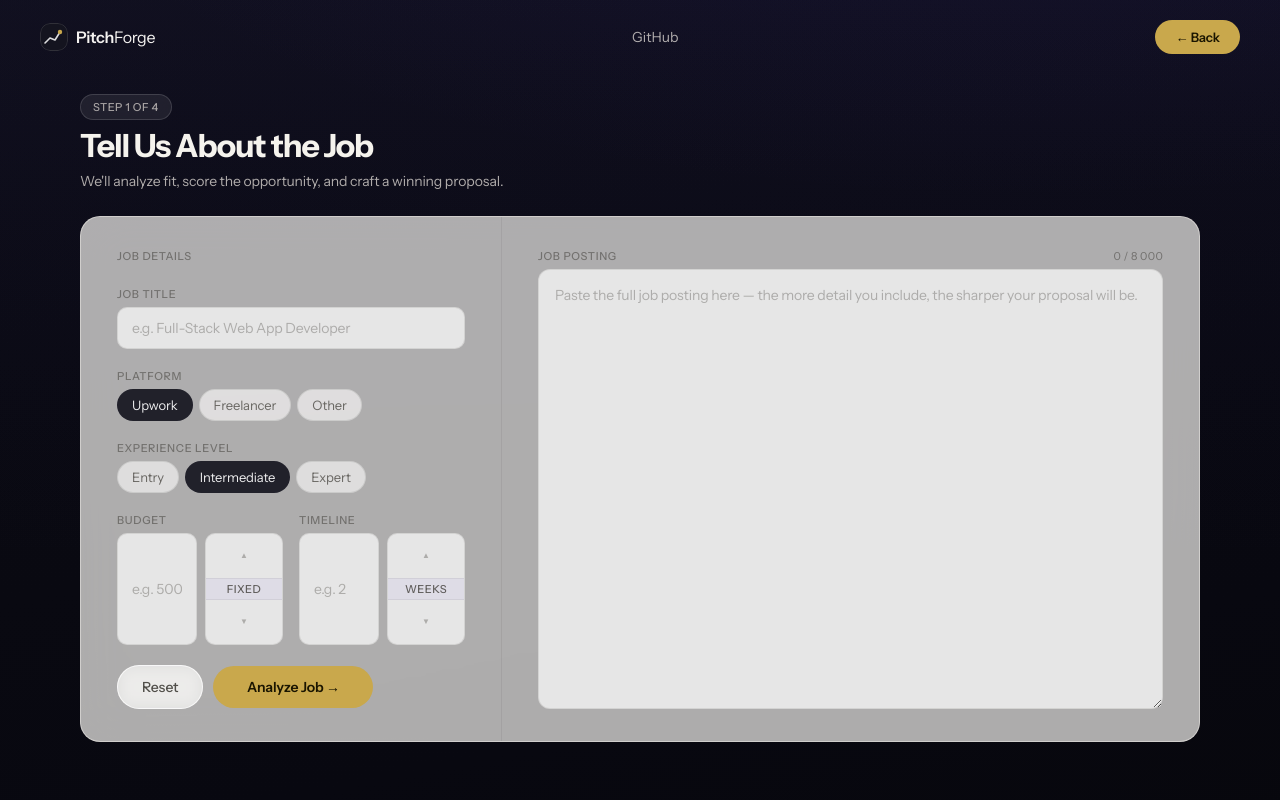
it: shows description too short error
Type "Software Engineer" into the field with placeholder "e.g. Full-Stack Web App Developer".
click(291, 328); type("Software Engineer")  # box [117,307,465,349]
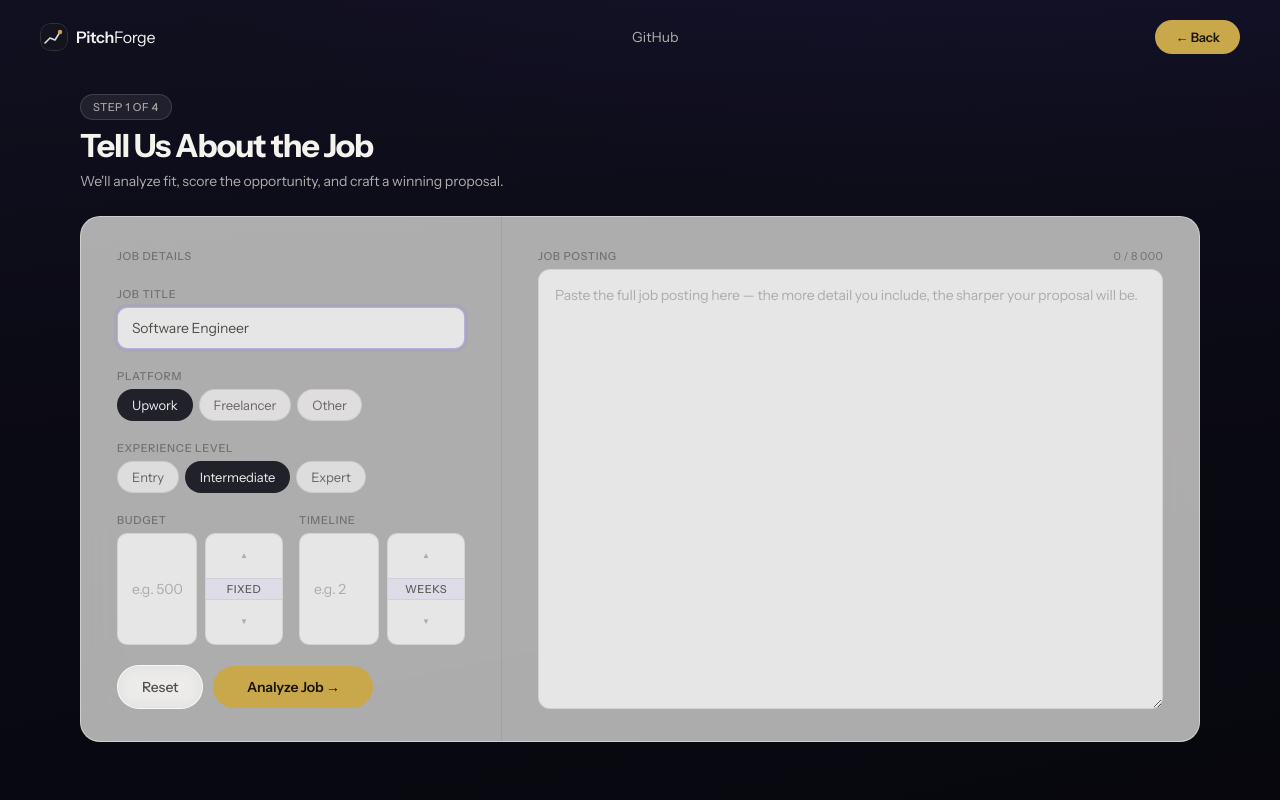
Type "Too short" into the text box with placeholder "Paste the full job posting".
click(850, 489); type("Too short")  # box [538,269,1163,709]
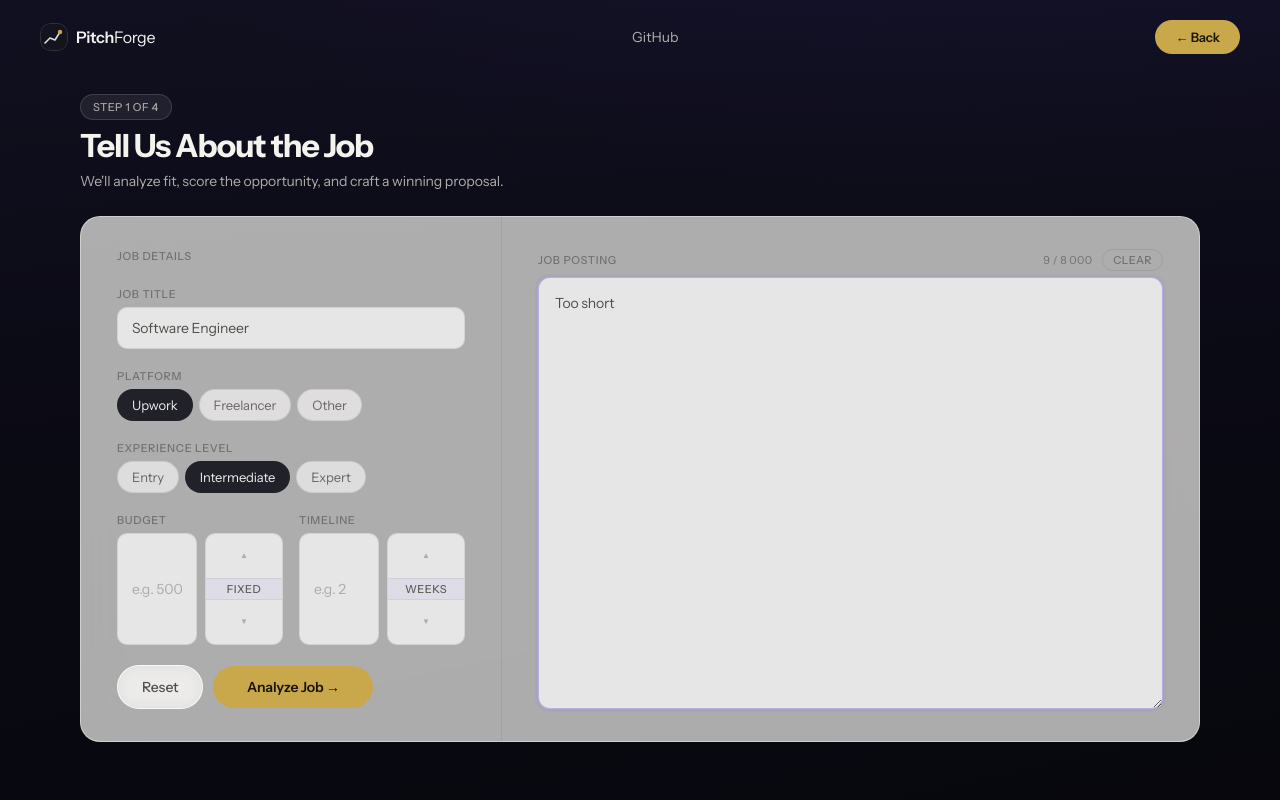
Click the button "Analyze Job →".
click(293, 687)  # box [213,666,373,708]
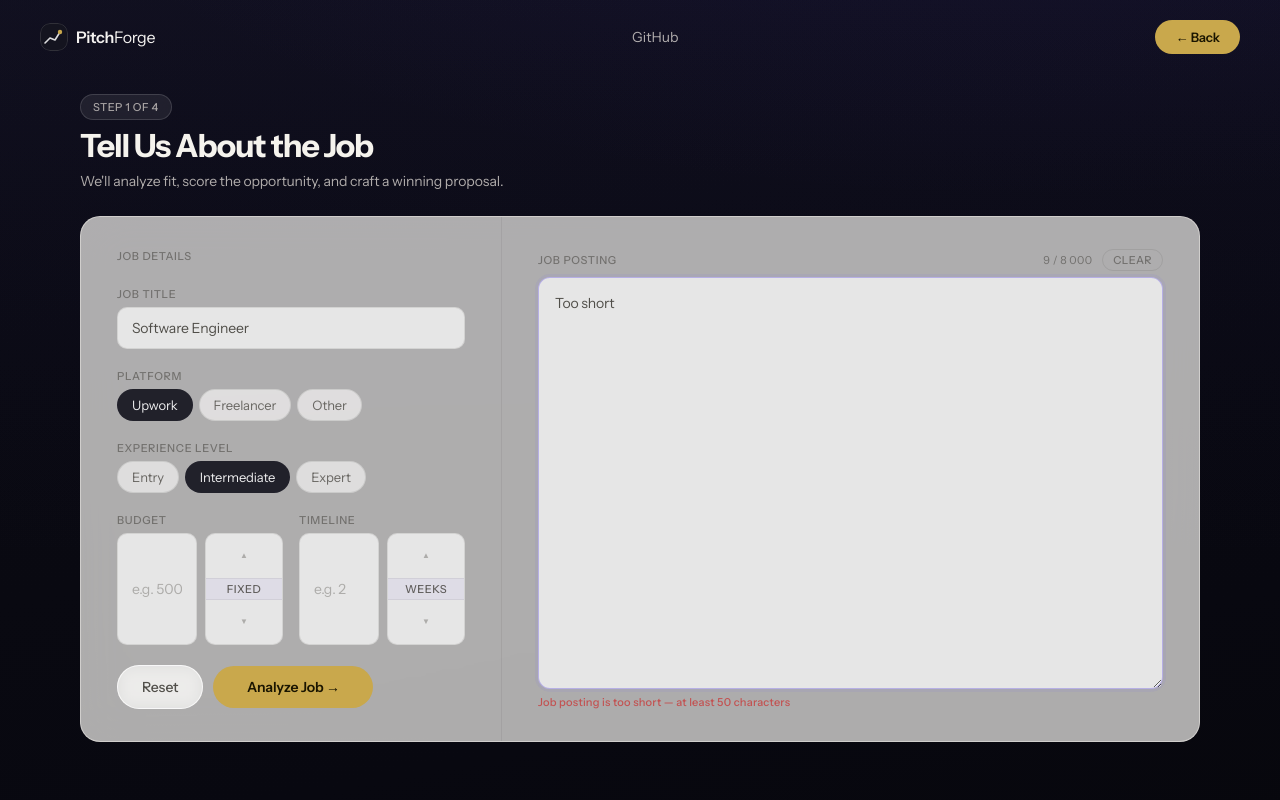
Expected: the text "Job posting is too short — at least 50 characters" is shown, [538,695,790,709]
